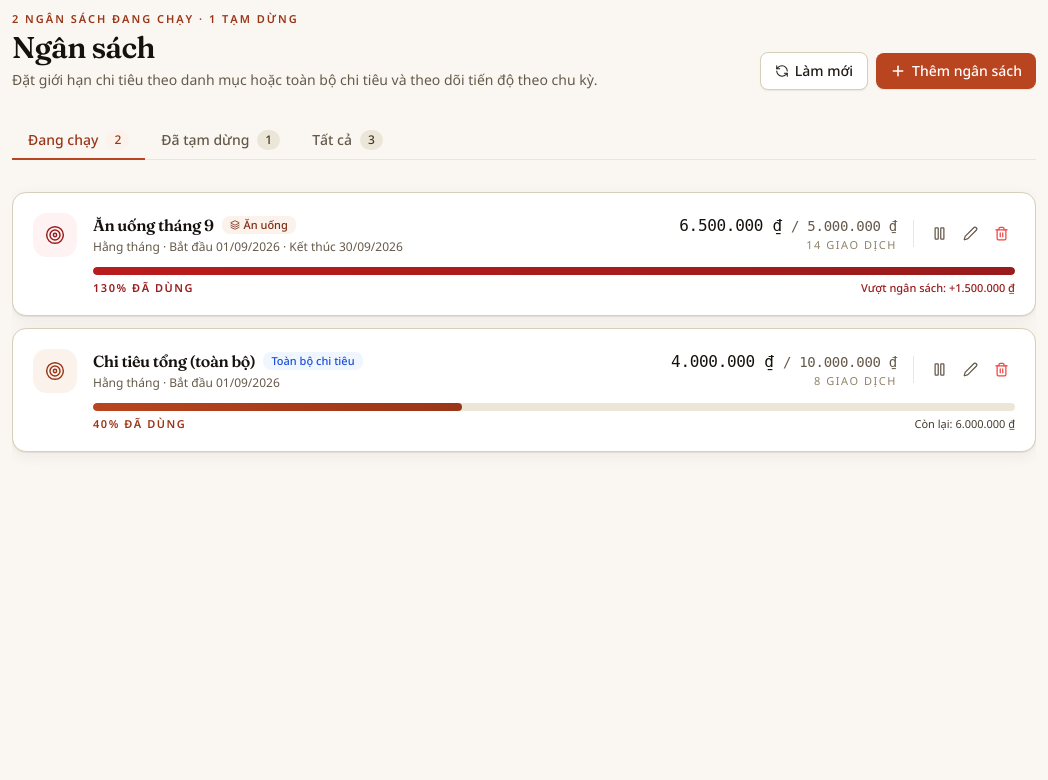
Test: BudgetsPage (V1-03 / F03, F04, F17) › Lọc theo Tab trạng thái: Đang chạy vs Đã tạm dừng vs Tất cả
Check: the text "Ăn uống tháng 9" is shown, box [93,213,214,237]
Check: the text "Ngân sách du lịch (tạm dừng)" is not shown
Note: Chuyển sang tab "Đã tạm dừng"
Click the button "Đã tạm dừng 1". click: (221, 141)
box: [145,122,296,160]
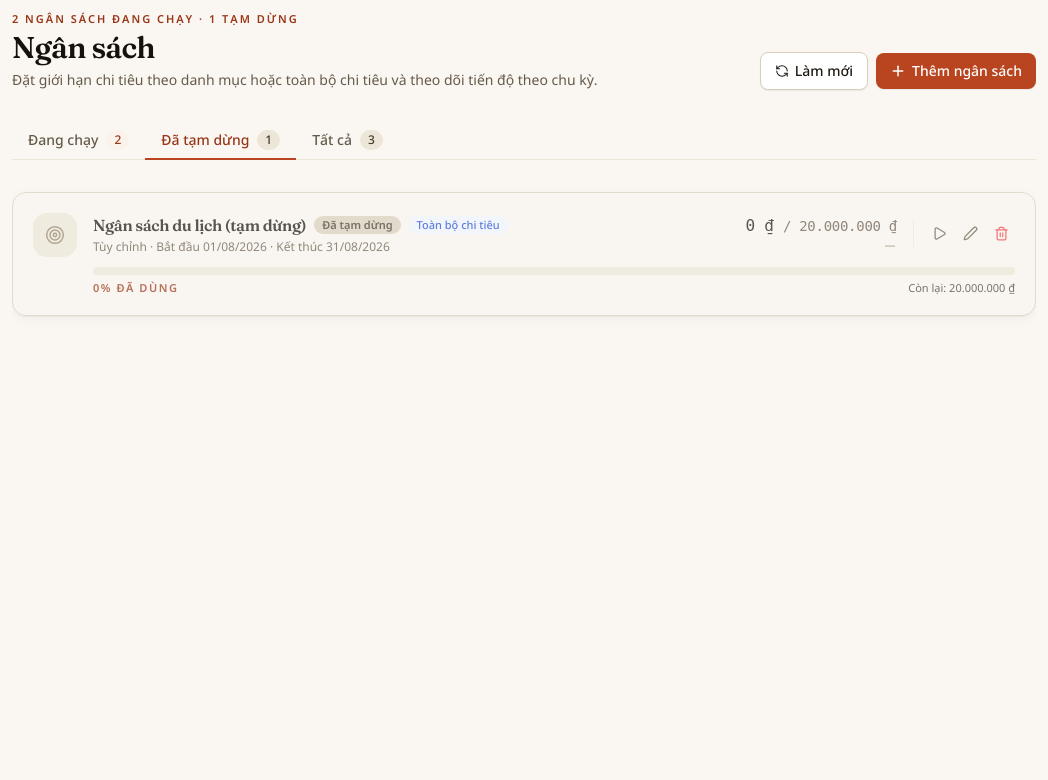
Check: the text "Ngân sách du lịch (tạm dừng)" is shown, box [93,213,306,237]
Check: the text "Ăn uống tháng 9" is gone
Note: Chuyển sang tab "Tất cả"
Click the button "Tất cả 3". click: (348, 141)
box: [296,122,399,160]
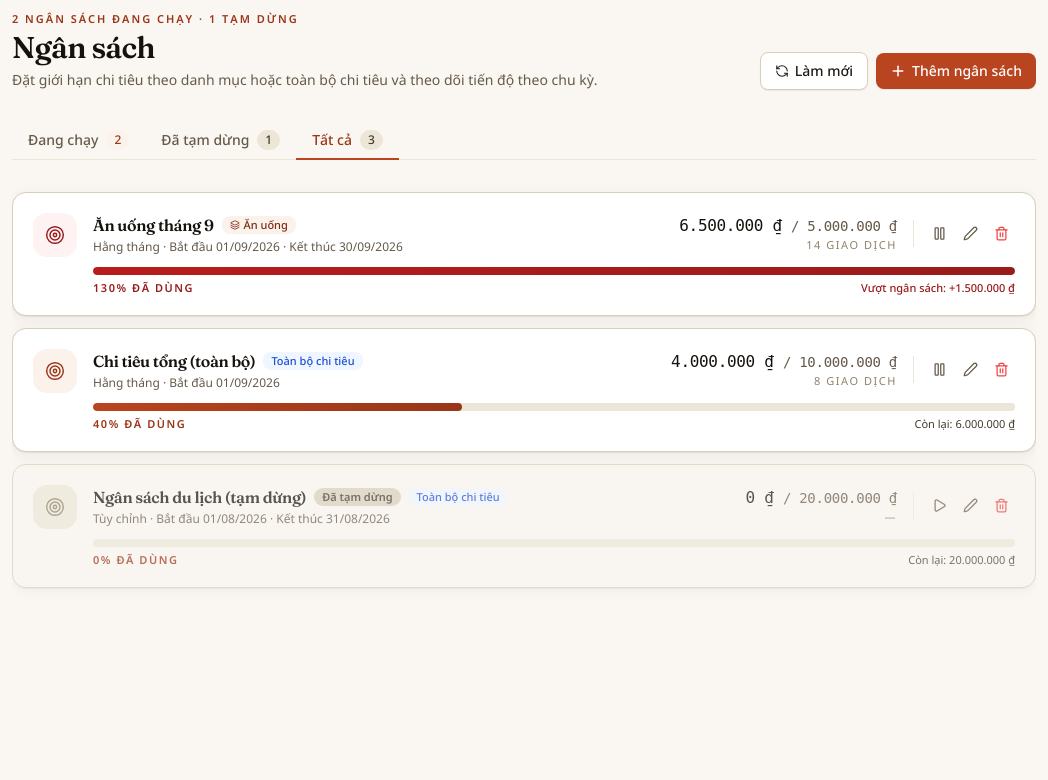
Check: the text "Ngân sách du lịch (tạm dừng)" is shown, box [93,485,306,509]
Check: the text "Ăn uống tháng 9" is shown, box [93,213,214,237]
